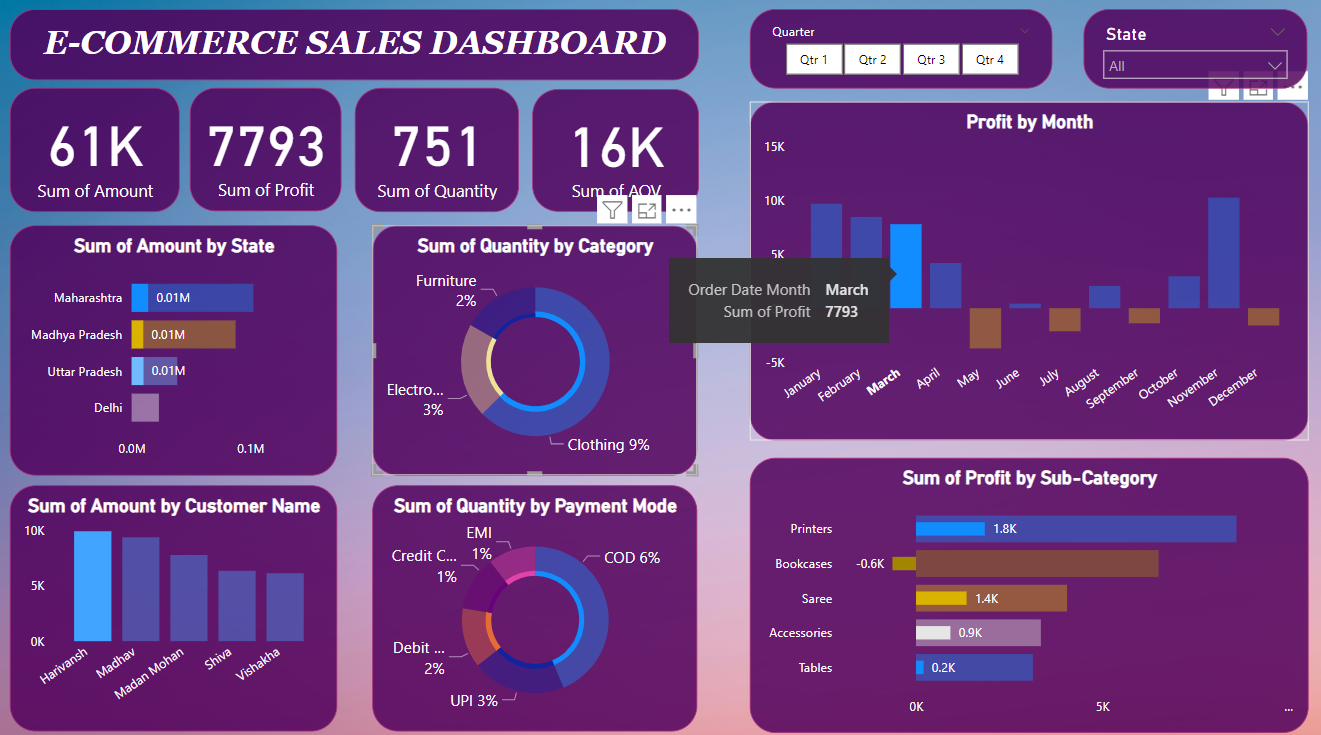

What the dashboard file says about the page in this screenshot:
{"tool":"powerbi","page":{"name":"Page 1","canvas":[1280,720],"ordinal":0},"visuals":[{"type":"textbox","box":[13.3,14.5,664.5,68.7],"z":0},{"type":"columnChart","title":"Profit by Month","fields":{"Category":["Orders.Order Date.Variation.Date Hierarchy.Month"],"Y":["Sum(Details.Profit)"]},"box":[727.2,103.7,539.1,326.8],"z":1000},{"type":"barChart","fields":{"Category":["Details.Sub-Category"],"Y":["Sum(Details.Profit)"]},"box":[726,445,539.1,266.5],"z":2000},{"type":"donutChart","fields":{"Category":["Details.Category"],"Y":["Sum(Details.Quantity)"]},"box":[363,223.1,313.6,241.2],"z":3000},{"type":"donutChart","title":"Sum of Quantity by Payment Mode","fields":{"Y":["Sum(Details.Quantity)"],"Category":["Details.PaymentMode"]},"box":[362.5,473.9,313.6,238.6],"z":4000},{"type":"card","fields":{"Values":["Sum(Details.Amount)"]},"box":[13,91,164,120],"z":5000},{"type":"card","fields":{"Values":["Sum(Details.Quantity)"]},"box":[346,90,158,120],"z":6000},{"type":"card","fields":{"Values":["Sum(Details.Profit)"]},"box":[187,91,146,119],"z":7000},{"type":"card","fields":{"Values":["Sum(Details.AOV)"]},"box":[517,92,161,118],"z":8000},{"type":"barChart","fields":{"Category":["Orders.State"],"Y":["Sum(Details.Amount)"]},"box":[13.3,223.1,316,241.2],"z":9000},{"type":"columnChart","title":"Sum of Amount by Customer Name","fields":{"Category":["Orders.CustomerName"],"Y":["Sum(Details.Amount)"]},"box":[13.6,473.9,315.9,238.6],"z":10000},{"type":"slicer","fields":{"Values":["Orders.Order Date.Variation.Date Hierarchy.Quarter"]},"box":[727.2,14.5,291.9,77.2],"z":11000},{"type":"slicer","fields":{"Values":["Orders.State"]},"box":[1049.2,14.5,215.9,77.2],"z":12000}]}

Visuals, with their boxes in screenshot pixels (x1, y1, x2, y2), scaled from the page's 1280x720 canvas onto the 1321x735 screenshot:
textbox: crop(14, 15, 700, 85)
"Profit by Month" columnChart: crop(750, 106, 1307, 439)
barChart - Details.Sub-Category x Sum(Details.Profit): crop(749, 454, 1306, 726)
donutChart - Details.Category x Sum(Details.Quantity): crop(375, 228, 698, 474)
"Sum of Quantity by Payment Mode" donutChart: crop(374, 484, 698, 727)
card - Sum(Details.Amount): crop(13, 93, 183, 215)
card - Sum(Details.Quantity): crop(357, 92, 520, 214)
card - Sum(Details.Profit): crop(193, 93, 344, 214)
card - Sum(Details.AOV): crop(534, 94, 700, 214)
barChart - Orders.State x Sum(Details.Amount): crop(14, 228, 340, 474)
"Sum of Amount by Customer Name" columnChart: crop(14, 484, 340, 727)
slicer - Orders.Order Date.Variation.Date Hierarchy.Quarter: crop(750, 15, 1052, 94)
slicer - Orders.State: crop(1083, 15, 1306, 94)
